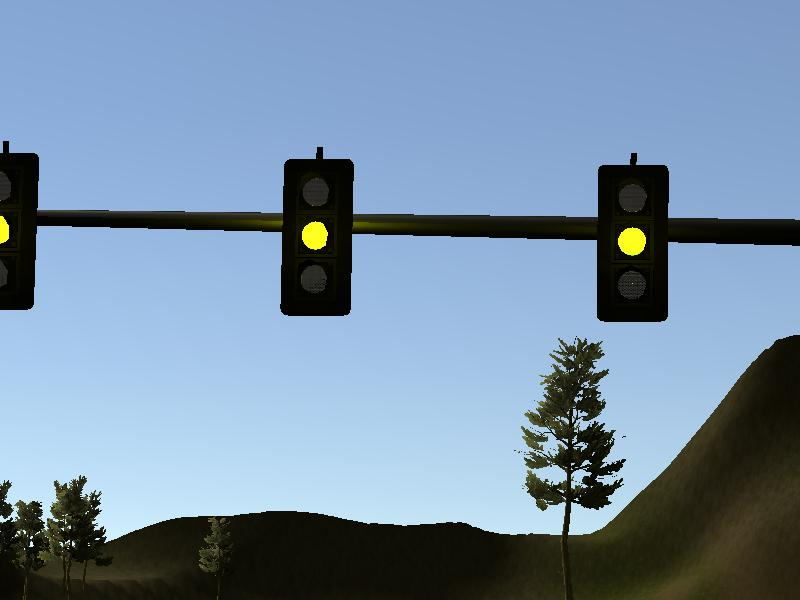yellow: (280, 156, 353, 319), (597, 159, 670, 322), (1, 149, 40, 311)
